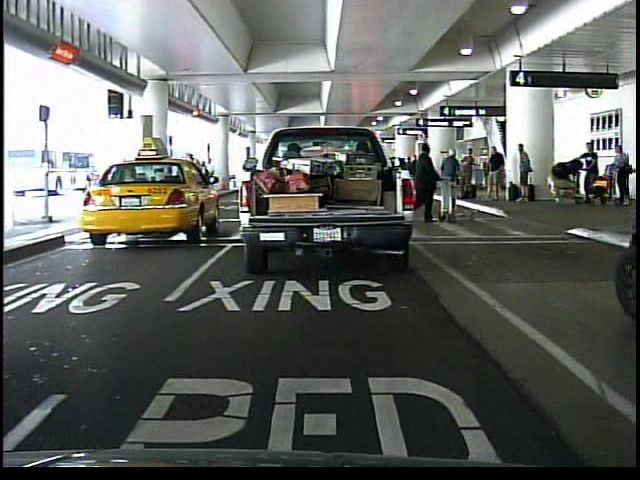person: (413, 140, 442, 225), (609, 141, 635, 213), (438, 146, 464, 216), (581, 141, 600, 183)
